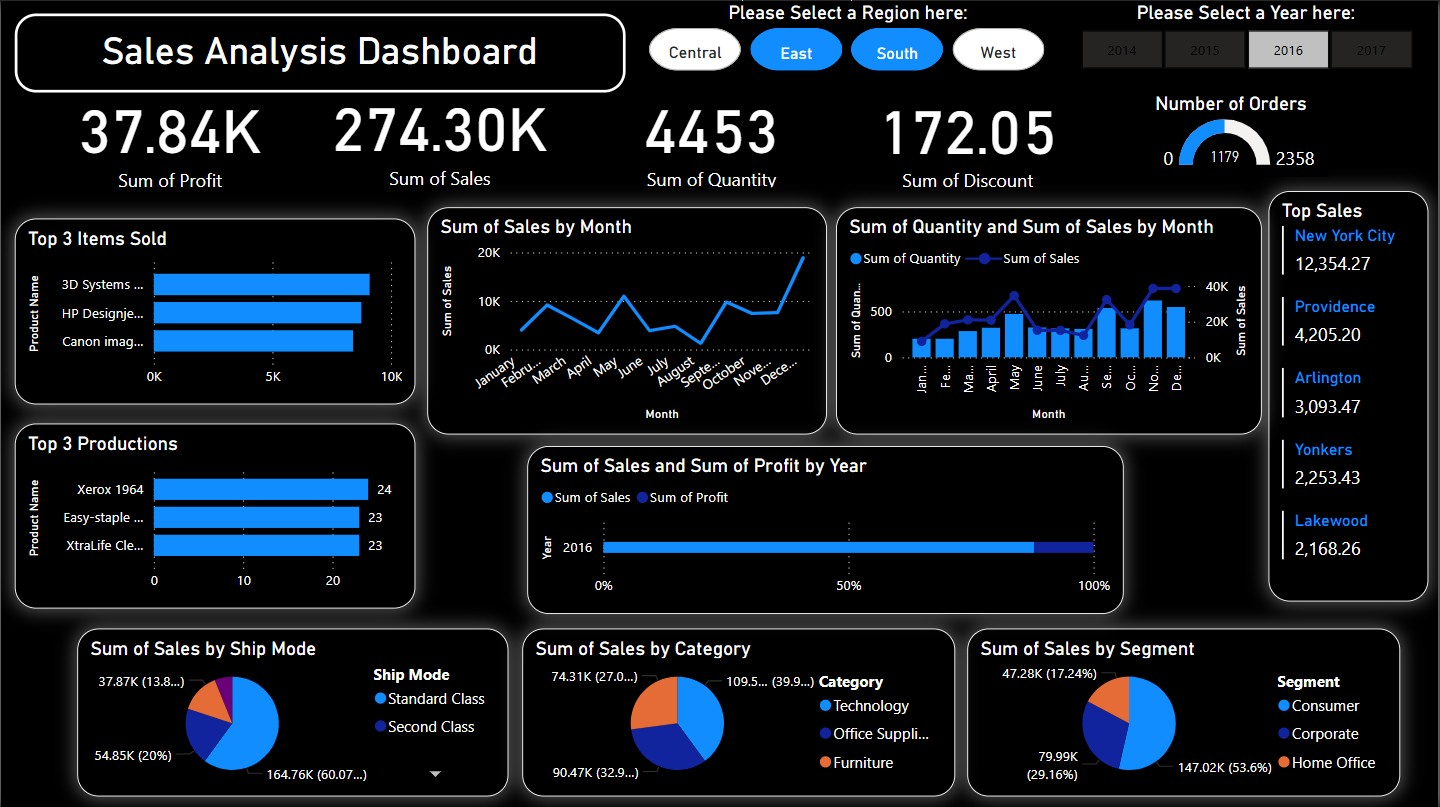

Layout of this report page (visuals, bound fields, positions):
{"tool":"powerbi","page":{"name":"Page 1","canvas":[1280,720],"ordinal":0},"visuals":[{"type":"card","fields":{"Values":["Sum(sample_-_superstore xls - Orders.Profit)"]},"box":[42.3,70.1,217.1,101.3],"z":0},{"type":"card","fields":{"Values":["Sum(sample_-_superstore xls - Orders.Sales)"]},"box":[273.6,67.5,234.4,101.8],"z":1000},{"type":"card","fields":{"Values":["Sum(sample_-_superstore xls - Orders.Discount)"]},"box":[763.2,69.9,195.1,101.8],"z":2000},{"type":"card","fields":{"Values":["Sum(sample_-_superstore xls - Orders.Quantity)"]},"box":[531.3,68.7,203.7,101.8],"z":3000},{"type":"advancedSlicerVisual","title":"Please Select a Region here: ","fields":{"Values":["sample_-_superstore xls - Orders.Region"]},"box":[572.2,0,363.6,67.2],"z":4000},{"type":"slicer","title":"Please Select a Year here: ","fields":{"Values":["sample_-_superstore xls - Orders.Order Date.Variation.Date Hierarchy.Year"]},"box":[935.9,0,344.4,67.2],"z":5000},{"type":"multiRowCard","title":"Top Sales","fields":{"Values":["Sum(sample_-_superstore xls - Orders.Profit)","sample_-_superstore xls - Orders.City"]},"box":[1128.8,169.3,142.3,365.6],"z":6000},{"type":"lineChart","fields":{"Category":["sample_-_superstore xls - Orders.Order Date.Variation.Date Hierarchy.Month"],"Y":["Sum(sample_-_superstore xls - Orders.Sales)"]},"box":[379.1,184.1,355.8,202.5],"z":7000},{"type":"pieChart","fields":{"Y":["Sum(sample_-_superstore xls - Orders.Sales)"],"Category":["sample_-_superstore xls - Orders.Ship Mode"]},"box":[67.5,558.3,384.1,149.7],"z":8000},{"type":"pieChart","fields":{"Y":["Sum(sample_-_superstore xls - Orders.Sales)"],"Category":["sample_-_superstore xls - Orders.Segment"]},"box":[860.1,558.3,385.3,149.7],"z":9000},{"type":"pieChart","fields":{"Y":["Sum(sample_-_superstore xls - Orders.Sales)"],"Category":["sample_-_superstore xls - Orders.Category"]},"box":[463.8,558.3,385.3,149.7],"z":10000},{"type":"gauge","title":"Number of Orders","fields":{"Y":["CountNonNull(sample_-_superstore xls - Orders.Postal Code)"]},"box":[1023.3,81,159.5,74.8],"z":11000},{"type":"lineStackedColumnComboChart","fields":{"Category":["sample_-_superstore xls - Orders.Order Date.Variation.Date Hierarchy.Month"],"Y":["Sum(sample_-_superstore xls - Orders.Quantity)"],"Y2":["Sum(sample_-_superstore xls - Orders.Sales)"]},"box":[743.6,184.1,379.1,202.5],"z":12000},{"type":"barChart","title":"Top 3 Items Sold","fields":{"Category":["sample_-_superstore xls - Orders.Product Name"],"Y":["Sum(sample_-_superstore xls - Orders.Sales)"]},"box":[12.3,193.9,357.1,165.6],"z":13000},{"type":"barChart","title":"Top 3 Productions","fields":{"Category":["sample_-_superstore xls - Orders.Product Name"],"Y":["Sum(sample_-_superstore xls - Orders.Quantity)"]},"box":[12.3,376.7,357.1,165],"z":14000},{"type":"hundredPercentStackedBarChart","fields":{"Category":["sample_-_superstore xls - Orders.Order Date.Variation.Date Hierarchy.Year","sample_-_superstore xls - Orders.Order Date.Variation.Date Hierarchy.Quarter"],"Y":["Sum(sample_-_superstore xls - Orders.Sales)","Sum(sample_-_superstore xls - Orders.Profit)"]},"box":[468.7,396.3,531.3,149.7],"z":15000},{"type":"textbox","box":[12.2,11.1,544.3,70.1],"z":15001}]}

Visuals, with their boxes in screenshot pixels (x1, y1, x2, y2), scaled from the page's 1280x720 canvas onto the 1440x807 screenshot:
card - Sum(sample_-_superstore xls - Orders.Profit): 48/79/292/192
card - Sum(sample_-_superstore xls - Orders.Sales): 308/76/572/190
card - Sum(sample_-_superstore xls - Orders.Discount): 859/78/1078/192
card - Sum(sample_-_superstore xls - Orders.Quantity): 598/77/827/191
"Please Select a Region here: " advancedSlicerVisual: 644/0/1053/75
"Please Select a Year here: " slicer: 1053/0/1439/75
"Top Sales" multiRowCard: 1270/190/1430/600
lineChart - sample_-_superstore xls - Orders.Order Date.Variation.Date Hierarchy.Month x Sum(sample_-_superstore xls - Orders.Sales): 426/206/827/433
pieChart - Sum(sample_-_superstore xls - Orders.Sales) x sample_-_superstore xls - Orders.Ship Mode: 76/626/508/794
pieChart - Sum(sample_-_superstore xls - Orders.Sales) x sample_-_superstore xls - Orders.Segment: 968/626/1401/794
pieChart - Sum(sample_-_superstore xls - Orders.Sales) x sample_-_superstore xls - Orders.Category: 522/626/955/794
"Number of Orders" gauge: 1151/91/1331/175
lineStackedColumnComboChart - sample_-_superstore xls - Orders.Order Date.Variation.Date Hierarchy.Month x Sum(sample_-_superstore xls - Orders.Quantity): 837/206/1263/433
"Top 3 Items Sold" barChart: 14/217/416/403
"Top 3 Productions" barChart: 14/422/416/607
hundredPercentStackedBarChart - sample_-_superstore xls - Orders.Order Date.Variation.Date Hierarchy.Year x sample_-_superstore xls - Orders.Order Date.Variation.Date Hierarchy.Quarter: 527/444/1125/612
textbox: 14/12/626/91
